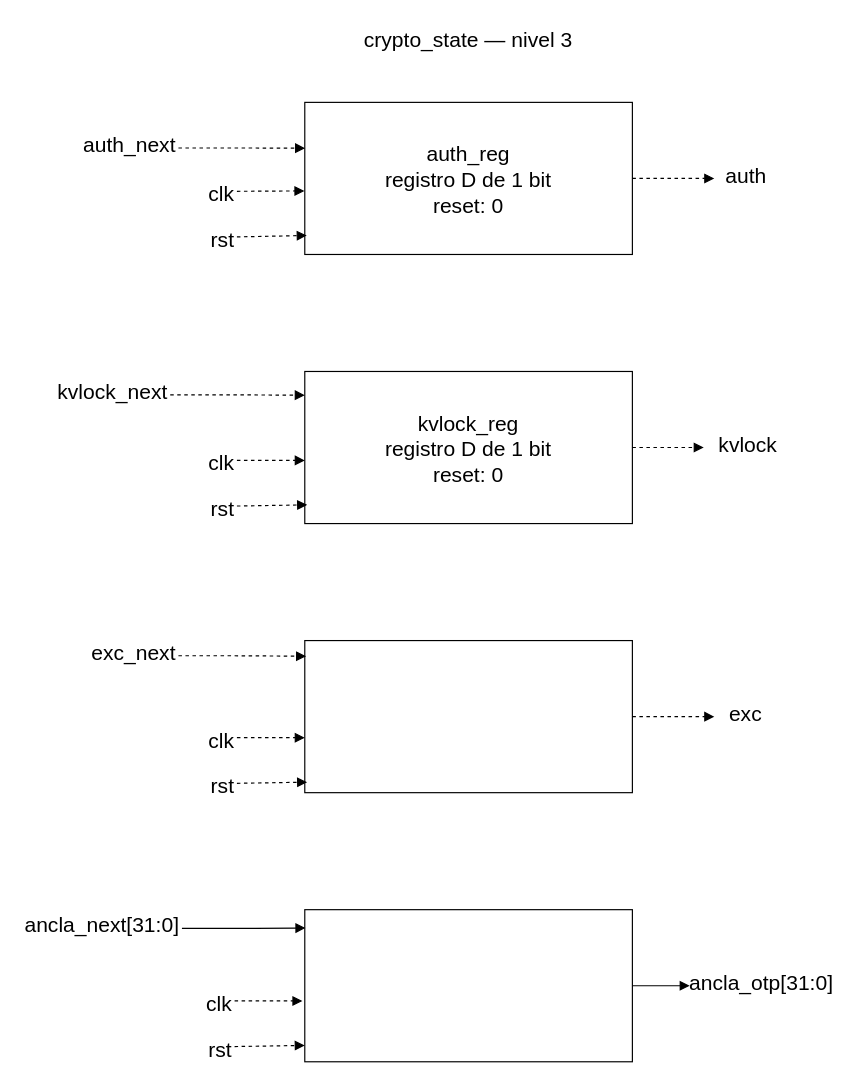
Some shapes in this 855 by 1083 pixel diagram are drawn without their labels. The box of each missing label's shape, as (x1, y1, x2, y2) in pixels:
anchor_reg registro D de 32 bits reset: RESET_ANCHOR: (304, 909, 632, 1062)
exc_reg registro D de 1 bit reset: 0: (304, 639, 632, 793)
